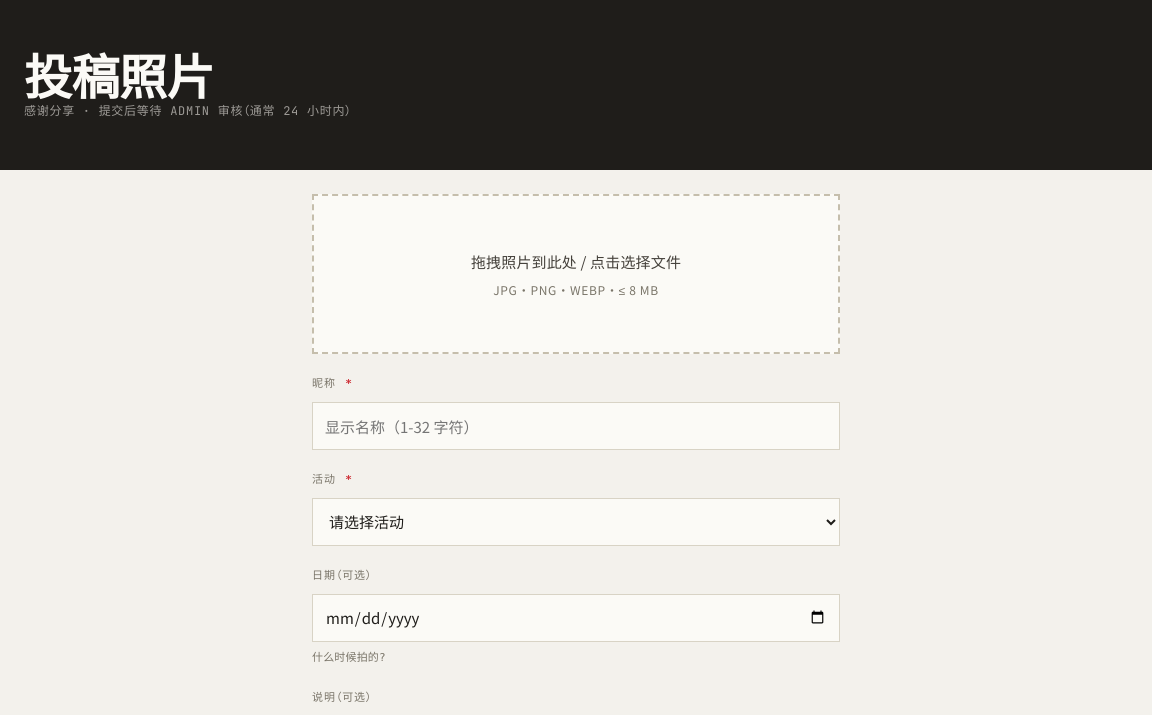
Test case: GallerySubmit — combobox state machine › picking __custom__ reveals the free-form text input
The width and height of the screenshot is (1152, 715).
Select "— 其他（自填） —" in the dropdown with test id "gs-event": x=576, y=522 [312, 498, 840, 546]
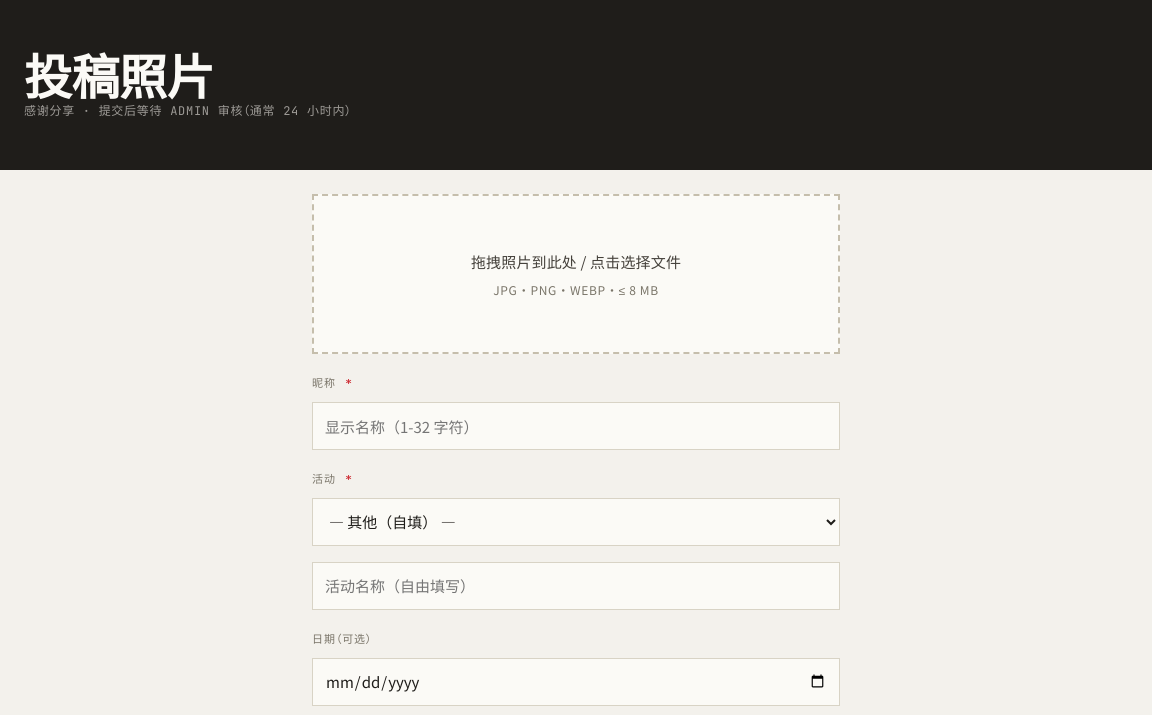
expect the field with test id "gs-event-custom" is shown: met, box [312, 562, 840, 610]
